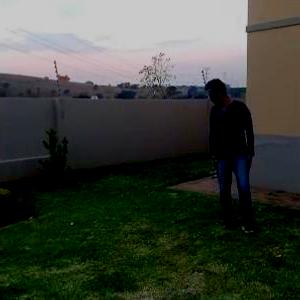follow: (208, 72, 262, 233)
